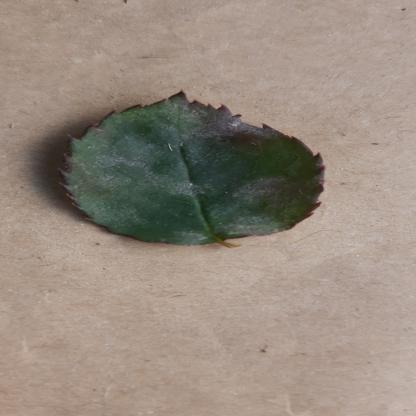powdery-mildew: (61, 90, 325, 250)
